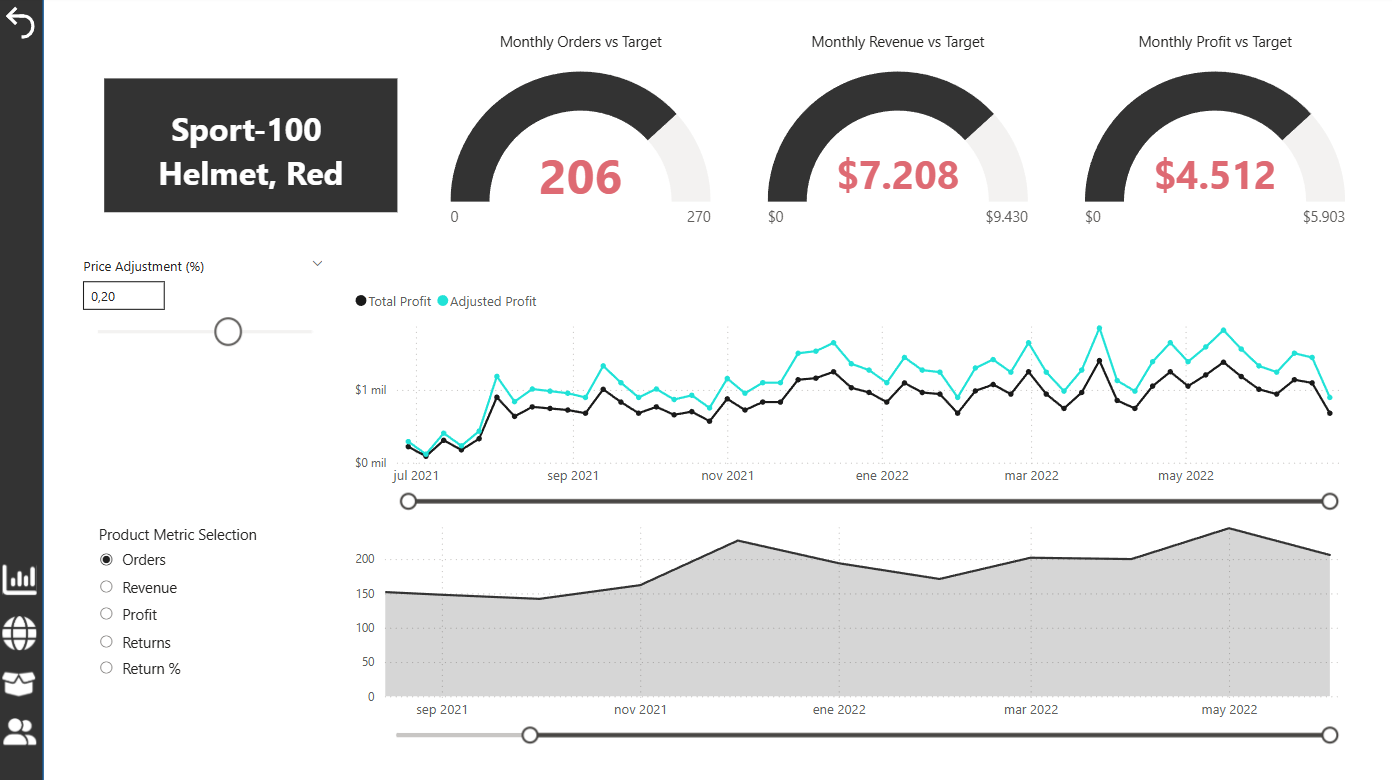

What the dashboard file says about the page in this screenshot:
{"tool":"powerbi","page":{"name":"Product Detail","canvas":[1280,720],"ordinal":2},"visuals":[{"type":"shape","title":"Left Nav Background","box":[0,0,44.4,719.8],"z":0},{"type":"actionButton","box":[2.5,513.6,45.7,39.5],"z":0,"group":"g1"},{"type":"gauge","title":"Monthly Orders vs Target","fields":{"Y":["Measure Table.Total Orders"],"MaxValue":["Measure Table.Order Target"]},"box":[410.9,31.6,247.8,203.3],"z":1000},{"type":"actionButton","box":[2.5,562.6,45.5,39.4],"z":1000,"group":"g1"},{"type":"gauge","title":"Monthly Revenue vs Target","fields":{"Y":["Measure Table.Total Revenue"],"MaxValue":["Measure Table.Revenue Target"]},"box":[701.1,31.6,247.8,203.3],"z":2000},{"type":"actionButton","box":[2.8,610,45.1,38],"z":2000,"group":"g1"},{"type":"gauge","title":"Monthly Profit vs Target","fields":{"Y":["Measure Table.Total Profit"],"MaxValue":["Measure Table.Profit Target"]},"box":[991.3,31.6,247.8,203.3],"z":3000},{"type":"actionButton","box":[3.7,653.1,45.7,38.3],"z":3000,"group":"g1"},{"type":"lineChart","title":"Profit Trending","fields":{"Category":["Calendar Lookup.Date Hierarchy.Year","Calendar Lookup.Date Hierarchy.Start of Month","Calendar Lookup.Date Hierarchy.Start of Week","Calendar Lookup.Date Hierarchy.Date"],"Y":["Measure Table.Total Profit","Measure Table.Adjusted Profit"]},"box":[323.5,259.3,927.2,213.6],"z":4000},{"type":"areaChart","title":"Returns Trending","fields":{"Y":["Measure Table.Total Orders"],"Category":["Calendar Lookup.Date Hierarchy.Year","Calendar Lookup.Date Hierarchy.Start of Month","Calendar Lookup.Date Hierarchy.Start of Week","Calendar Lookup.Date Hierarchy.Date"]},"box":[323.5,472.8,927.2,213.6],"z":5000},{"type":"card","fields":{"Values":["Min(Product Lookup.ProductName)"]},"box":[99.6,75,268.4,122.6],"z":6000},{"type":"textbox","box":[96.7,47.6,271.2,33.2],"z":7000},{"type":"group","id":"g1","title":"Navegation Buttons","box":[2.5,513.6,46.9,177.8],"z":8000},{"type":"actionButton","box":[3.7,4.9,45.4,39.3],"z":9000},{"type":"slicer","fields":{"Values":["Price Adjustment (%).Price Adjustment (%)"]},"box":[67.9,233.3,244.4,114.8],"z":10000},{"type":"slicer","fields":{"Values":["Parameter.Parameter"]},"box":[81.5,477.8,222.2,170.4],"z":11000}]}

Visuals, with their boxes on the page's 1280x720 design canvas (x1, y1, x2, y2). These are canvas units, not pixel positions in the 1392x780 screenshot, which may show the page scaled, cropped or inside an application window:
"Left Nav Background" shape: <box>0,0,44,720</box>
actionButton: <box>2,514,48,553</box>
"Monthly Orders vs Target" gauge: <box>411,32,659,235</box>
actionButton: <box>2,563,48,602</box>
"Monthly Revenue vs Target" gauge: <box>701,32,949,235</box>
actionButton: <box>3,610,48,648</box>
"Monthly Profit vs Target" gauge: <box>991,32,1239,235</box>
actionButton: <box>4,653,49,691</box>
"Profit Trending" lineChart: <box>324,259,1251,473</box>
"Returns Trending" areaChart: <box>324,473,1251,686</box>
card - Min(Product Lookup.ProductName): <box>100,75,368,198</box>
textbox: <box>97,48,368,81</box>
"Navegation Buttons" group: <box>2,514,49,691</box>
actionButton: <box>4,5,49,44</box>
slicer - Price Adjustment (%).Price Adjustment (%): <box>68,233,312,348</box>
slicer - Parameter.Parameter: <box>82,478,304,648</box>
